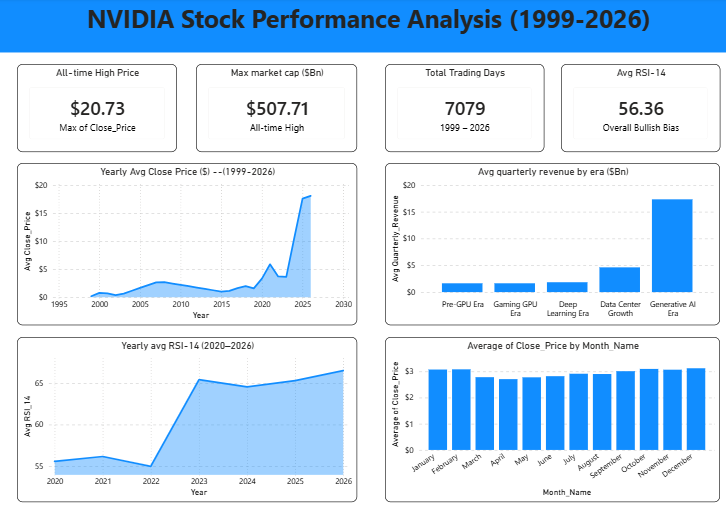

This screenshot's page, from the dashboard's own definition file:
{"tool":"powerbi","page":{"name":"Page 1","canvas":[1260,870],"ordinal":0},"visuals":[{"type":"textbox","box":[0,0,1279.4,93.5],"z":0},{"type":"cardVisual","title":"All-time High Price","fields":{"Data":["Max(NVIDIA Stock Data.Close_Price)"]},"box":[32.4,114.3,276.4,151.8],"z":1000},{"type":"cardVisual","title":"Max market cap ($Bn)","fields":{"Data":["Max(NVIDIA Stock Data.Market_Cap_Bn_USD)"]},"box":[341.2,114.3,278.1,151.8],"z":2000},{"type":"cardVisual","title":"Total Trading Days","fields":{"Data":["CountNonNull(NVIDIA Stock Data.Date)"]},"box":[667,114.3,274.6,151.8],"z":3000},{"type":"cardVisual","title":"Avg RSI-14","fields":{"Data":["Avg(NVIDIA Stock Data.RSI_14)"]},"box":[970.6,114.3,274.6,151.8],"z":4000},{"type":"lineChart","title":"Yearly Avg Close Price ($) --(1999-2026)","fields":{"Category":["NVIDIA Stock Data.Year"],"Y":["Avg(NVIDIA Stock Data.Close_Price)"]},"box":[32.4,284.9,586.8,279.8],"z":5000},{"type":"columnChart","title":"Avg quarterly revenue by era ($Bn)","fields":{"Category":["NVIDIA Stock Data.Era"],"Y":["Avg(NVIDIA Stock Data.Quarterly_Revenue_Bn_USD)"]},"box":[667,284.9,578.3,279.8],"z":6000},{"type":"lineChart","title":"Yearly avg RSI-14 (2020–2026)","fields":{"Category":["NVIDIA Stock Data.Year"],"Y":["Avg(NVIDIA Stock Data.RSI_14)"]},"box":[32.4,585.1,586.8,284.9],"z":7000},{"type":"columnChart","fields":{"Category":["NVIDIA Stock Data.Month_Name"],"Y":["Avg(NVIDIA Stock Data.Close_Price)"]},"box":[667,585.1,578.3,284.9],"z":8000}]}

Visuals, with their boxes in screenshot pixels (x1, y1, x2, y2), scaled from the page's 1260x870 canvas onto the 726x506 screenshot:
textbox: crop(0, 0, 725, 54)
"All-time High Price" cardVisual: crop(19, 66, 178, 155)
"Max market cap ($Bn)" cardVisual: crop(197, 66, 357, 155)
"Total Trading Days" cardVisual: crop(384, 66, 543, 155)
"Avg RSI-14" cardVisual: crop(559, 66, 717, 155)
"Yearly Avg Close Price ($) --(1999-2026)" lineChart: crop(19, 166, 357, 328)
"Avg quarterly revenue by era ($Bn)" columnChart: crop(384, 166, 718, 328)
"Yearly avg RSI-14 (2020–2026)" lineChart: crop(19, 340, 357, 505)
columnChart - NVIDIA Stock Data.Month_Name x Avg(NVIDIA Stock Data.Close_Price): crop(384, 340, 718, 505)
